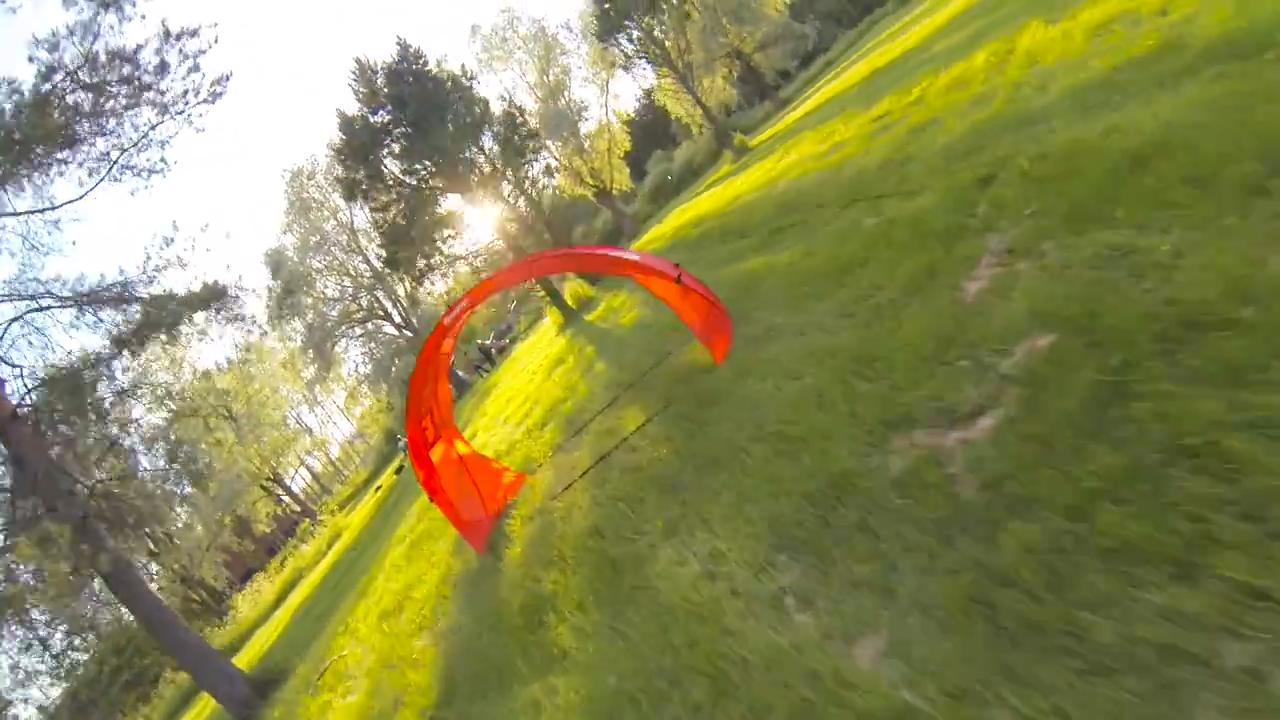gate: (403, 246, 741, 557)
